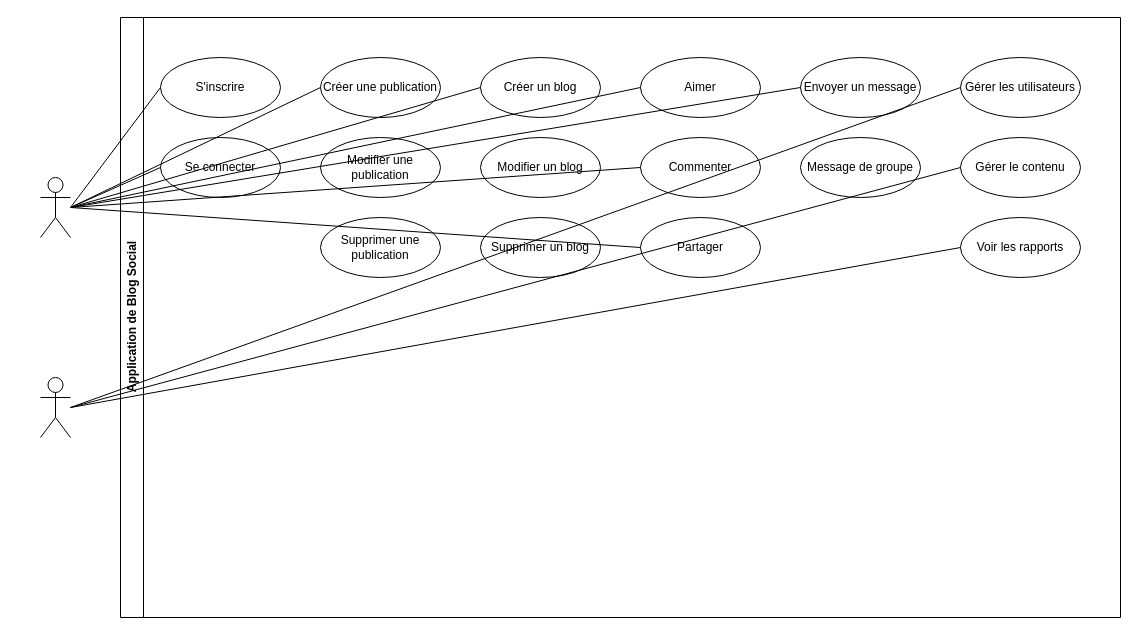
The diagram is 1138 pixels wide and 635 high, and some of its shapes have lost their labels. The box of each missing label's shape, as (x1, y1, x2, y2) in pixels:
Administrateur: (40, 376, 70, 438)
Utilisateur: (40, 176, 70, 238)
